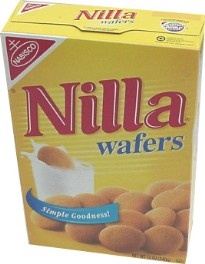grozi_77: (0, 0, 205, 263)
